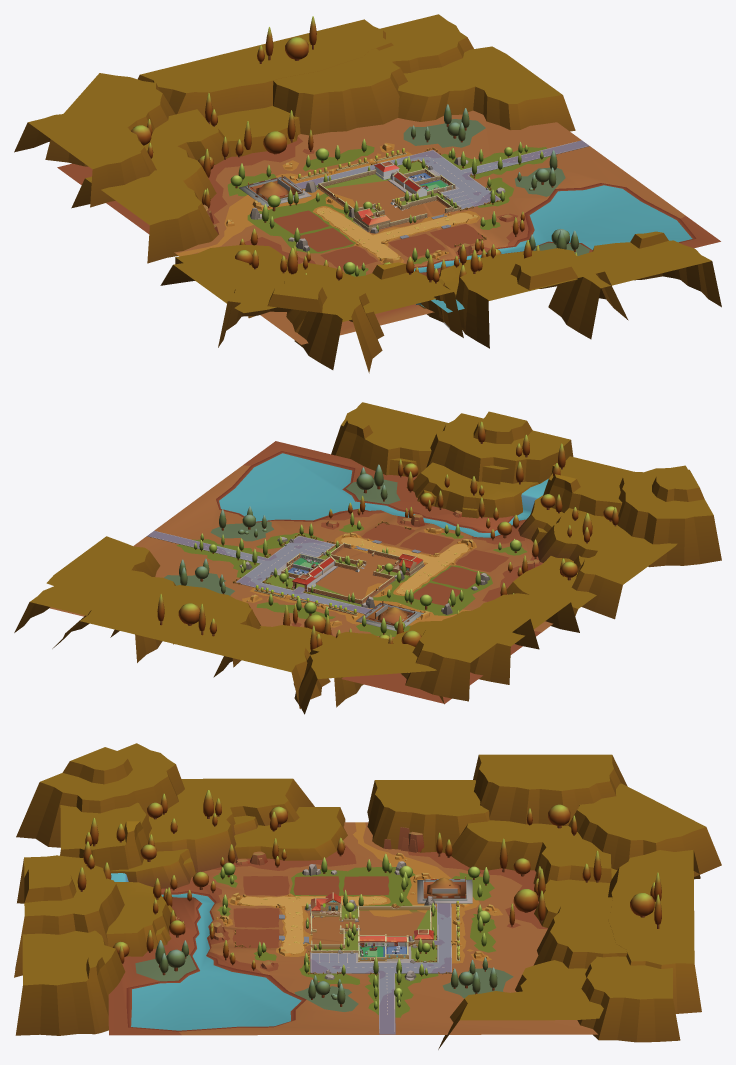
Rendered from world_1.fbx.
3 views of the same model, one above another, from view 1: azimuth 30°, elevation 25°; view 2: azimuth 150°, elevation 25°; view 3: azimuth 270°, elevation 25° (orthographic). The views are drawn at different scales.
Visible parts, largest first — view 1: Plane.074; view 2: Plane.074; view 3: Plane.074.
Part boxes in pixels (x1,y1,x2,y2): Plane.074: (14, 14, 721, 373); Plane.074: (14, 402, 721, 714); Plane.074: (14, 743, 721, 1049).
Size of the model in its own units: 8510 by 1589 by 10026.
